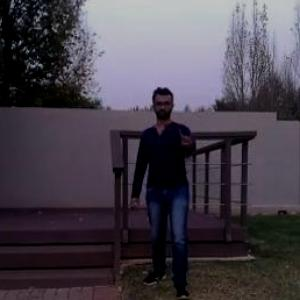takeoff-hand: (172, 124, 200, 152)
